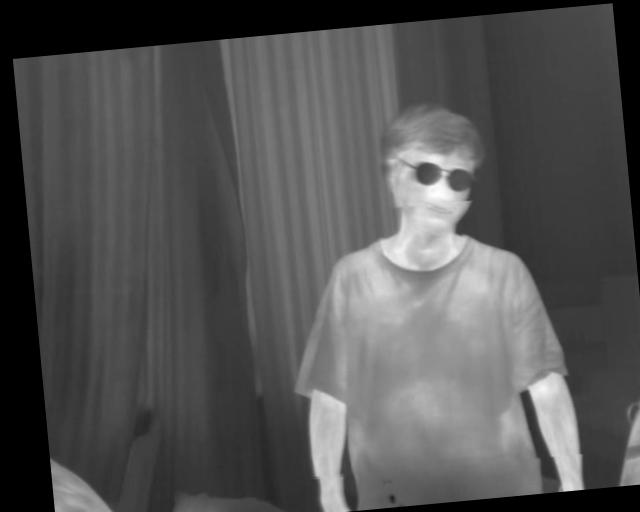face: (377, 97, 492, 241)
